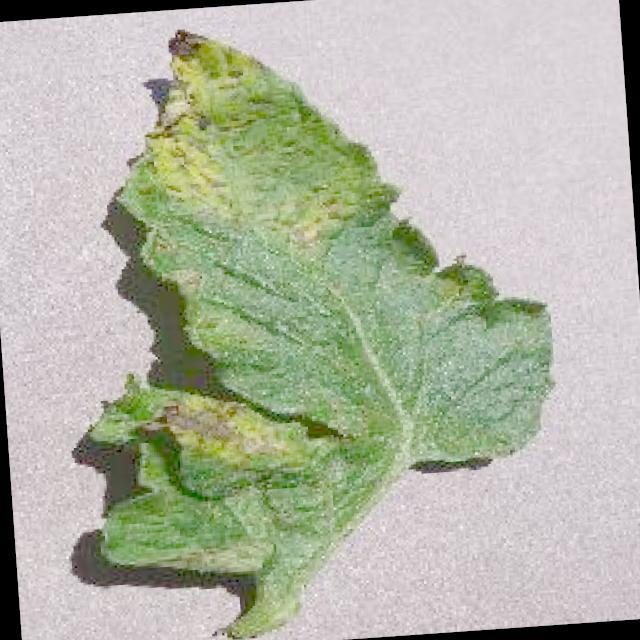Tomato Septoria spot leaf: (56, 0, 568, 581)
